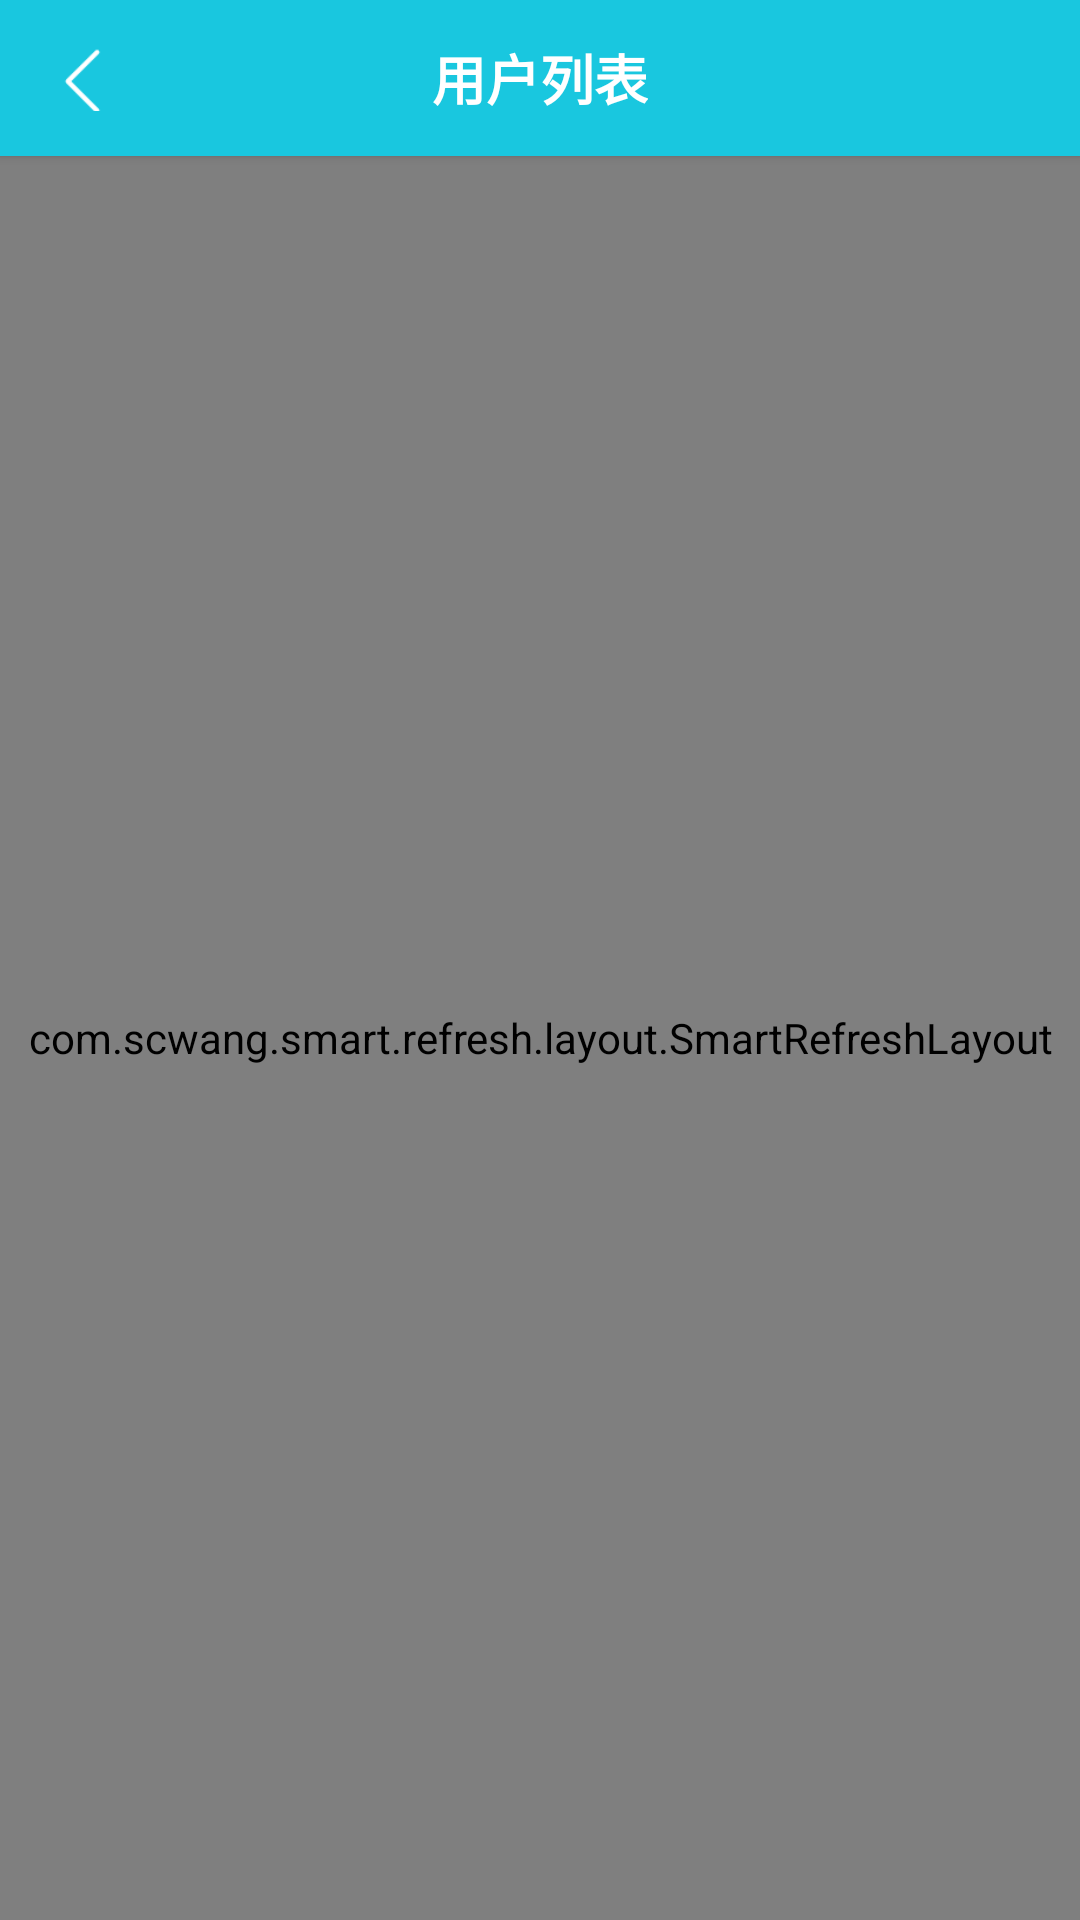

Screen size 1080×1920. Icon name, then its box in pixels as (x1, y1, x2, y2):
return withe: (65, 49, 100, 111)
